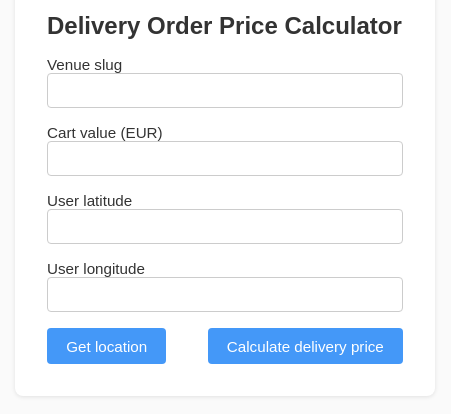
Test: Geolocation tests › should update coordinates when Get location is clicked
Click the button with test id "getLocation" at [107, 346], box [47,328,166,364]
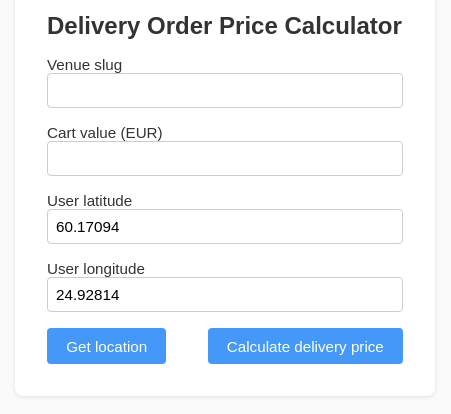
Result: the field with test id "userLatitude" holds "60.17094" at [47,209,403,244]
Result: the field with test id "userLongitude" holds "24.92814" at [47,277,403,312]
